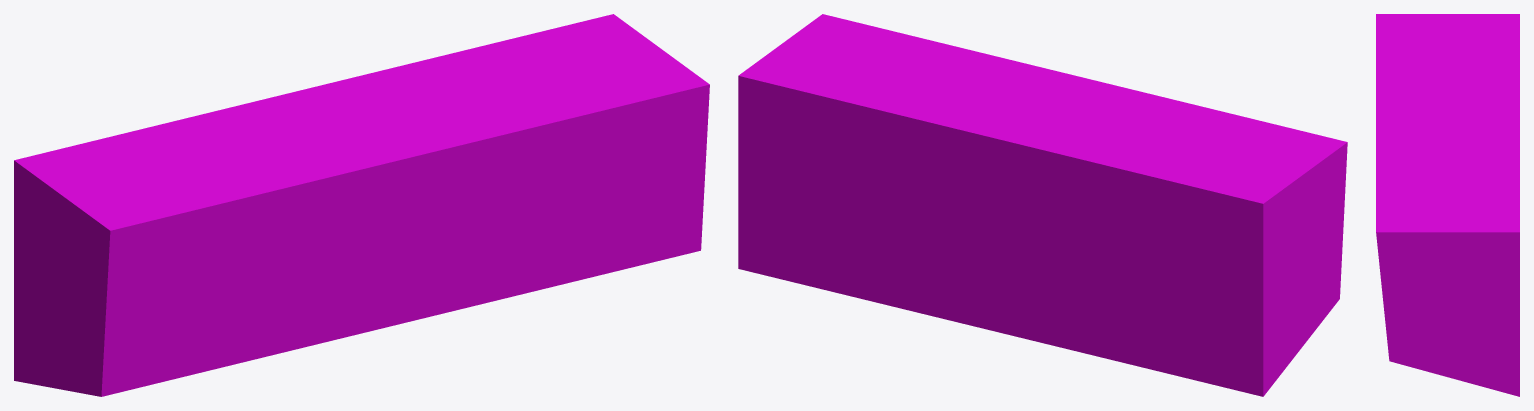
File: SM_AirConCollider.fbx
3 views of the same model, side by side, from view 1: azimuth 30°, elevation 25°; view 2: azimuth 150°, elevation 25°; view 3: azimuth 270°, elevation 25° (orthographic). The views are drawn at different scales.
Visible parts, largest first — view 1: AirConCollision; view 2: AirConCollision; view 3: AirConCollision.
Boxes of the visible parts, x1,y1,x2,y2 form: AirConCollision: [14, 14, 709, 396]; AirConCollision: [738, 14, 1347, 396]; AirConCollision: [1376, 14, 1519, 396].
Size of the model in its own units: 121 by 42.35 by 33.54.
